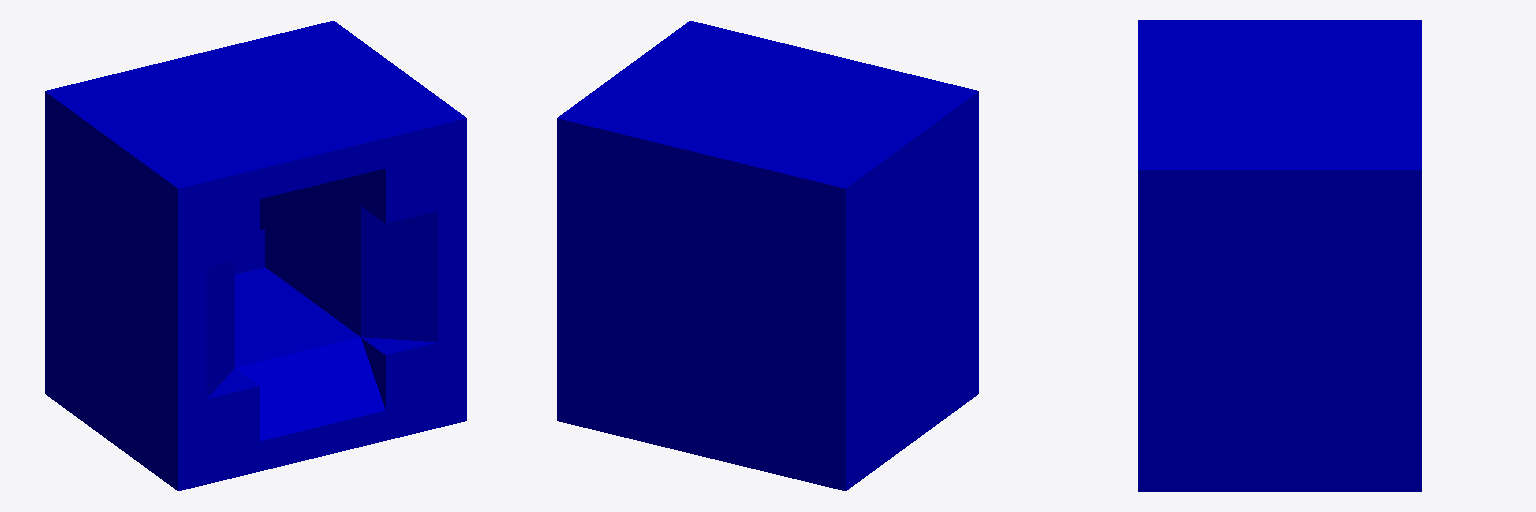
The robot description file, URDF, robot "receiver":
<?xml version="1.0" ?>
<robot name="receiver">
  <link name="baseLink">
    <contact>
      <lateral_friction value="0.2"/>
      <rolling_friction value="0."/>
	<restitution value="0" />
    </contact>
    <inertial>
      <origin rpy="0 0 0" xyz="0 0 0"/>
       <mass value="0."/>
       <inertia ixx="1.550E-05" ixy="0" ixz="0" iyy="1.550E-05" iyz="0" izz="3.060E-05"/>
    </inertial>
    <visual>
      <origin rpy="0 0 0" xyz="0 0 0"/>
      <geometry>
		<mesh filename="./socket_3d2.obj" scale="0.1 0.1 0.1"/>
      </geometry>
       <material name="green">
        <color rgba="0 0 0.8 0.5"/>
      </material>
    </visual>
    <collision concave="yes">
      <origin rpy="0 0 0" xyz="0 0 0"/>
      <geometry>
	 	<mesh filename="./socket_3d2.obj" scale="0.1 0.1 0.1"/>
      </geometry>
    </collision>
  </link>
</robot>

--- What the picture shows (computed from the rendered views, not written in the file) ---
Views: 3 orthographic renders of the robot side by side, from view 1: azimuth 30°, elevation 25°; view 2: azimuth 150°, elevation 25°; view 3: azimuth 270°, elevation 25°.
Model receiver with 1 links and 0 joints (none), rooted at baseLink, posed every joint at zero.
Links seen in each view (by area): view 1: baseLink; view 2: baseLink; view 3: baseLink.
Boxes of the visible links, x1,y1,x2,y2 form: baseLink: (45,21,466,490); baseLink: (557,21,978,490); baseLink: (1138,20,1421,491).
Size in the robot's own frame: 1 by 0.8 by 1 metres.
1 mesh visuals loaded from 1 distinct referenced files (1 OBJ).